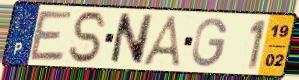1: (247, 19, 269, 72)
A: (140, 13, 185, 69)
E: (27, 9, 75, 63)
G: (190, 17, 229, 69)
N: (107, 12, 155, 67)
S: (67, 9, 110, 65)
